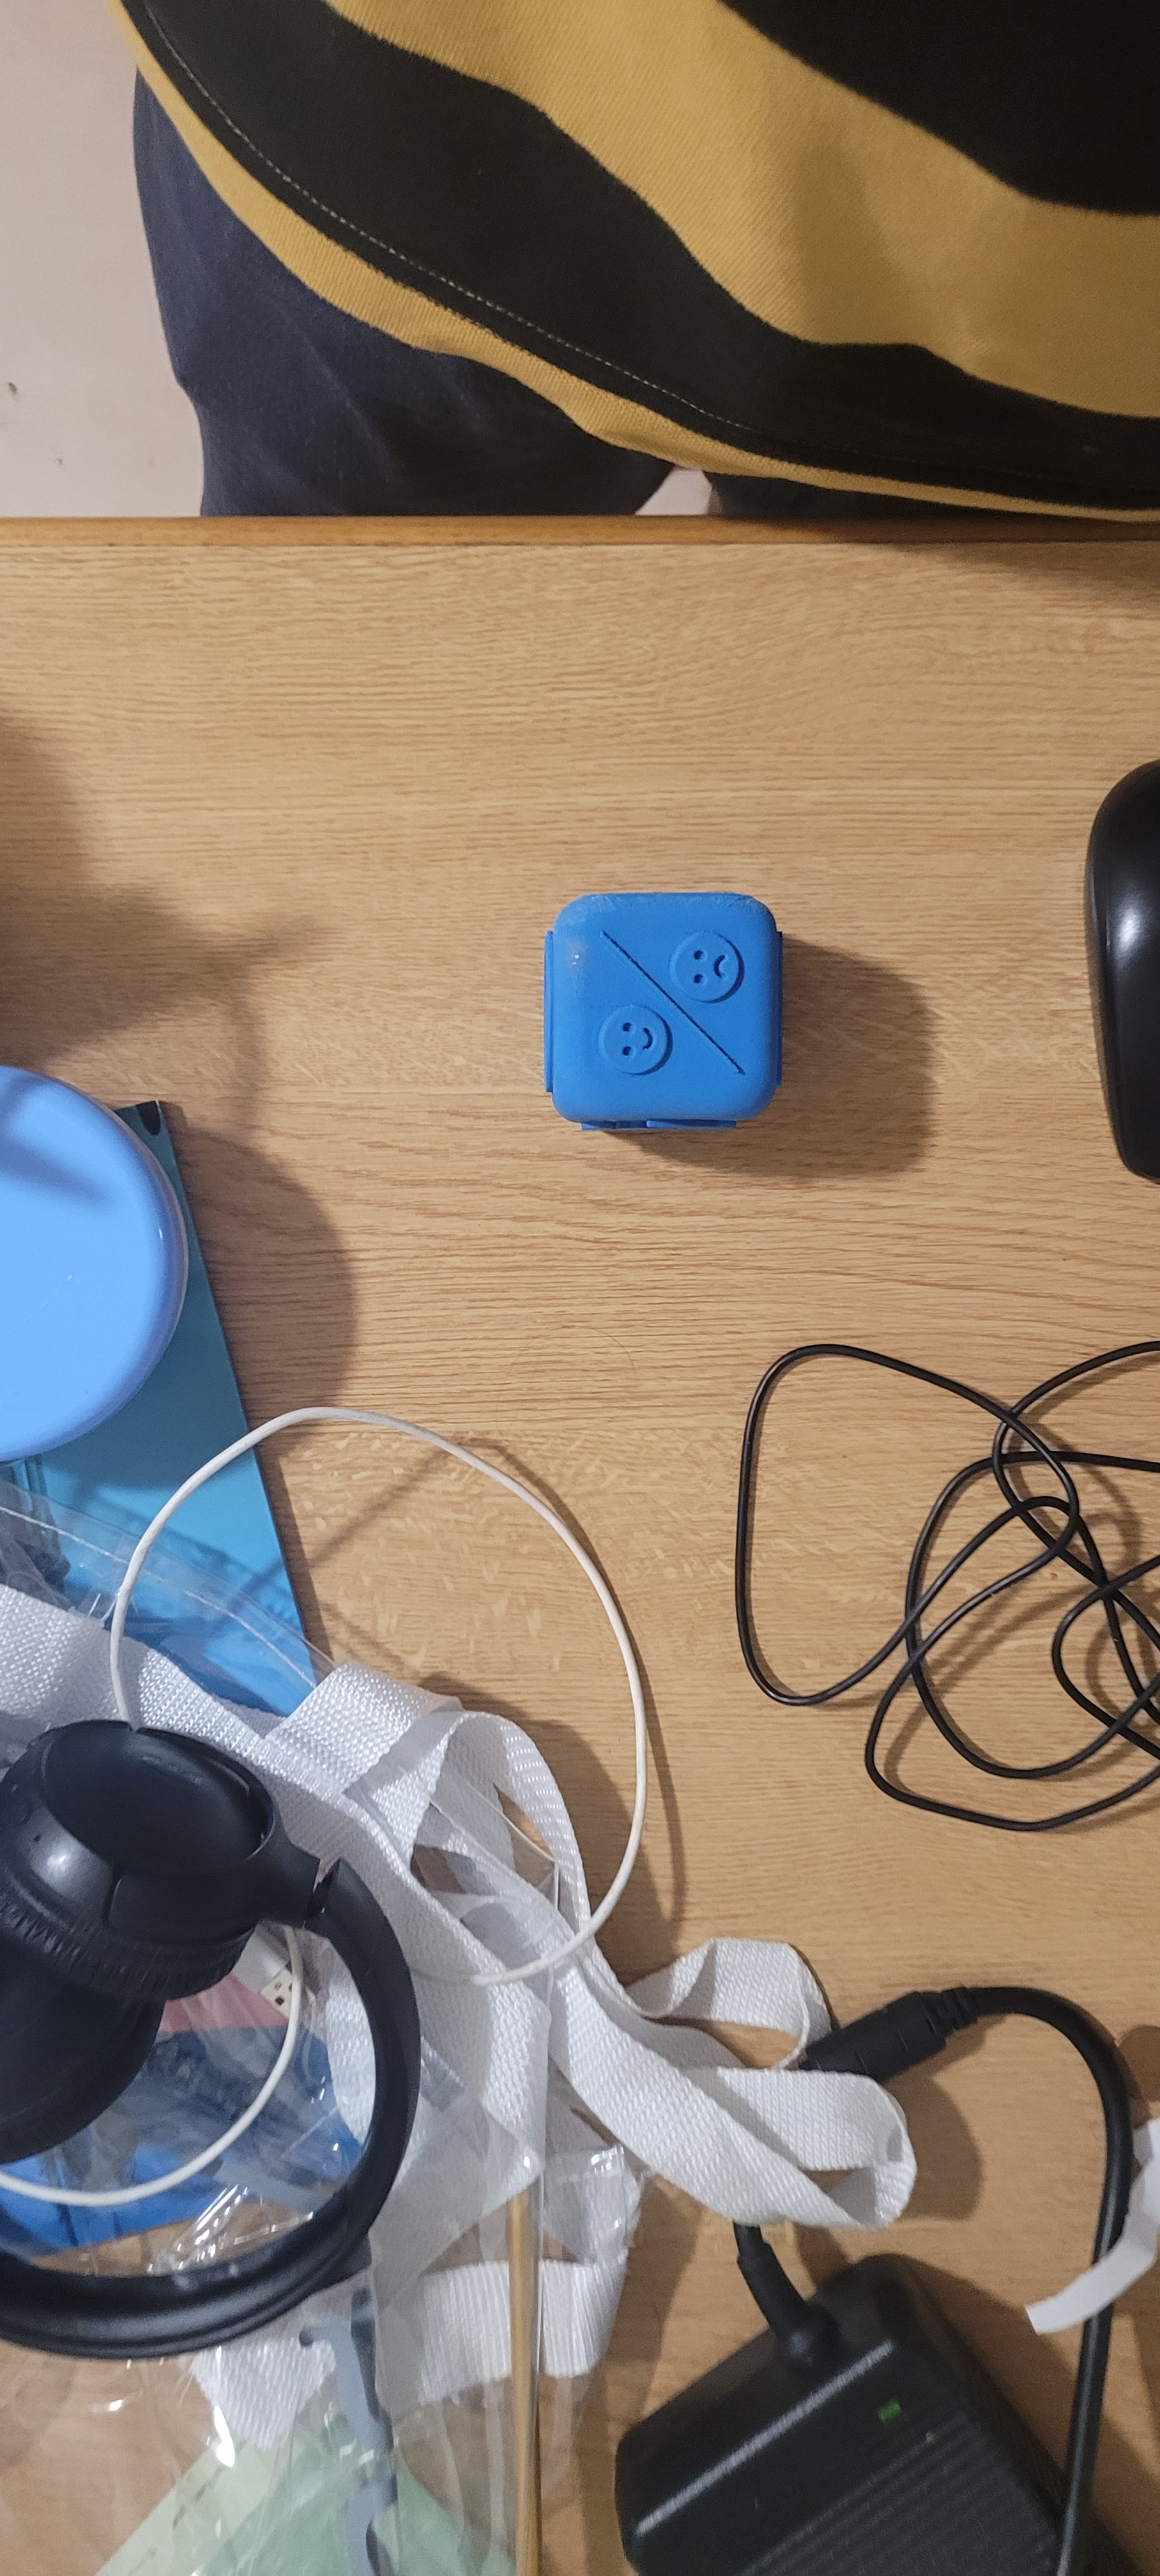Like/Dislike: (532, 867, 784, 1152)
